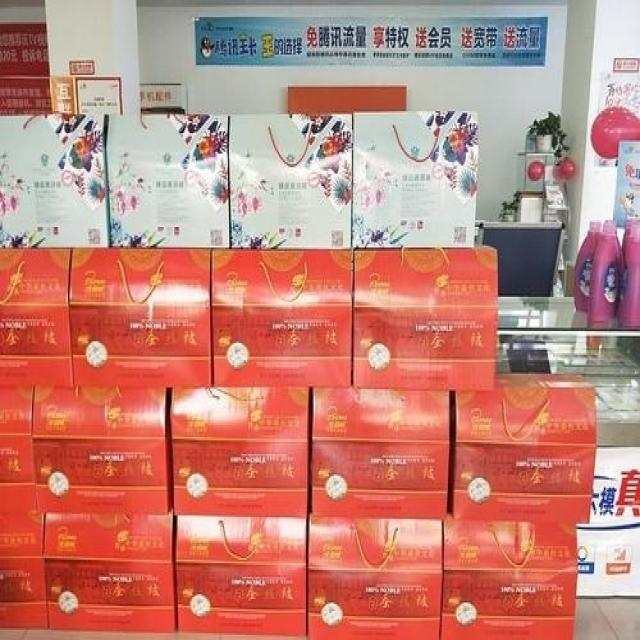box: (449, 372, 598, 524), (353, 244, 498, 391), (210, 247, 355, 387), (72, 247, 211, 386), (312, 387, 453, 521), (174, 387, 314, 519), (35, 386, 177, 512), (353, 113, 477, 253), (229, 114, 355, 251), (106, 114, 232, 247), (439, 521, 580, 638), (308, 517, 442, 640), (42, 512, 177, 633), (177, 517, 311, 638), (0, 114, 110, 247), (0, 247, 74, 386), (0, 510, 49, 630), (0, 386, 38, 514)
